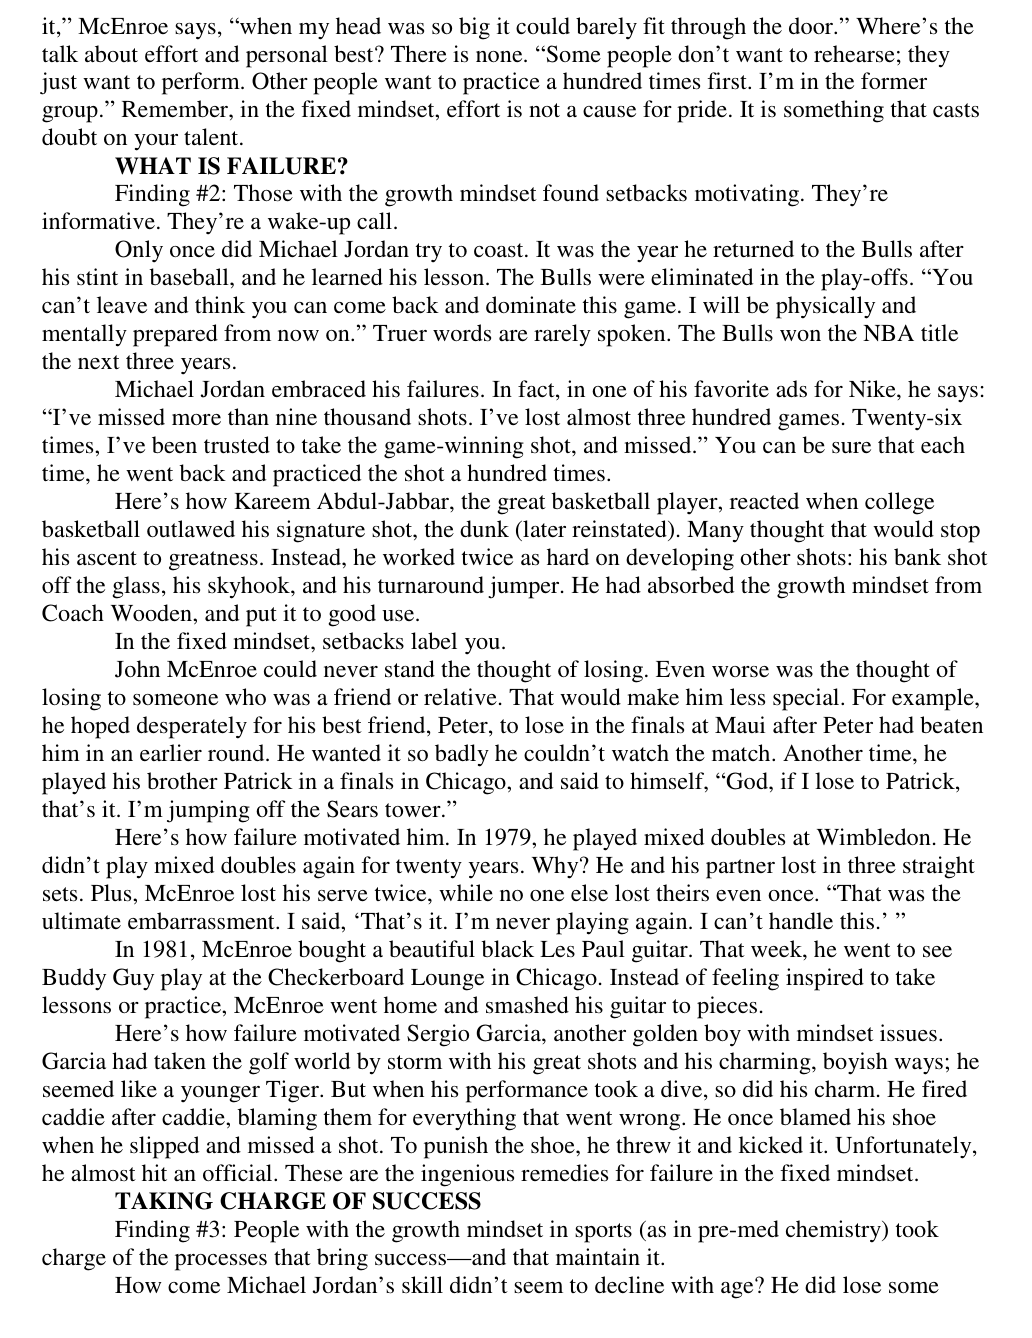latin: (30, 939, 982, 1186), (33, 630, 984, 826), (38, 180, 976, 375), (38, 488, 989, 631), (36, 8, 986, 150), (35, 374, 986, 488), (38, 826, 978, 939), (39, 1212, 947, 1307), (114, 1186, 483, 1214), (113, 155, 348, 180)
